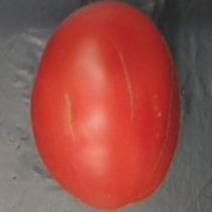unripe: (24, 0, 187, 212)
